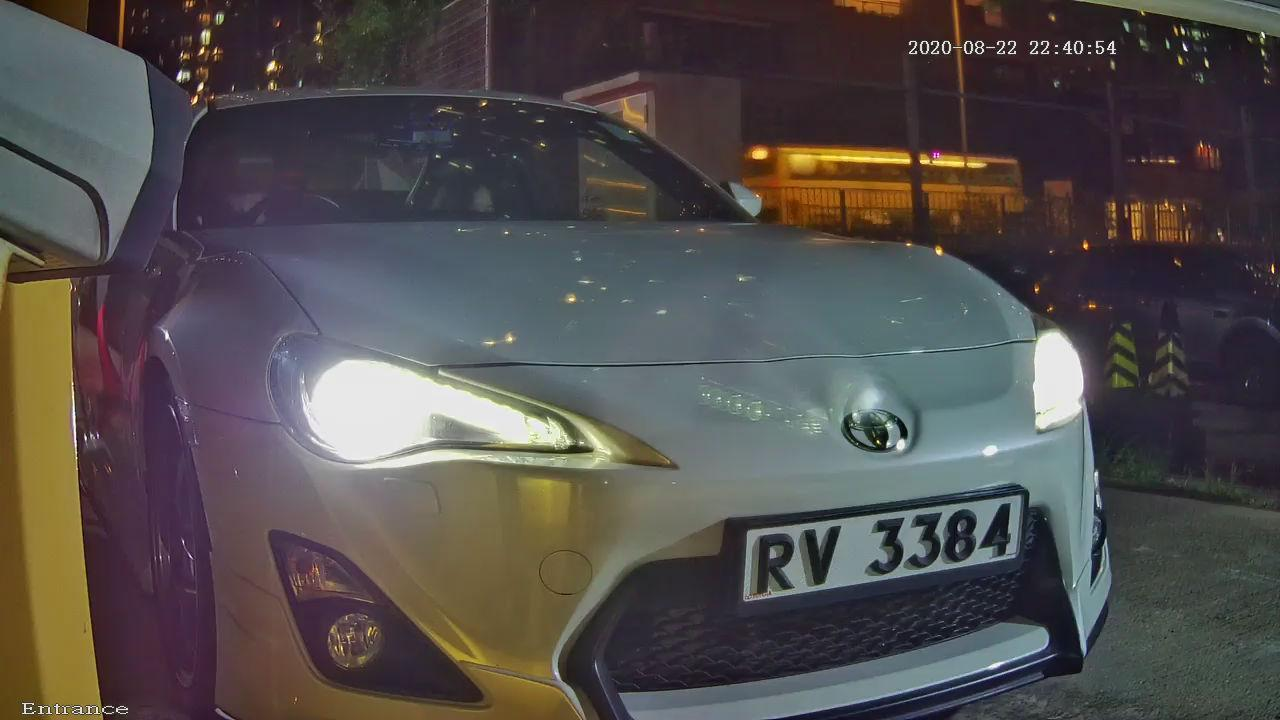Car: (35, 1, 1223, 720)
License Plate: (681, 444, 1086, 654)
